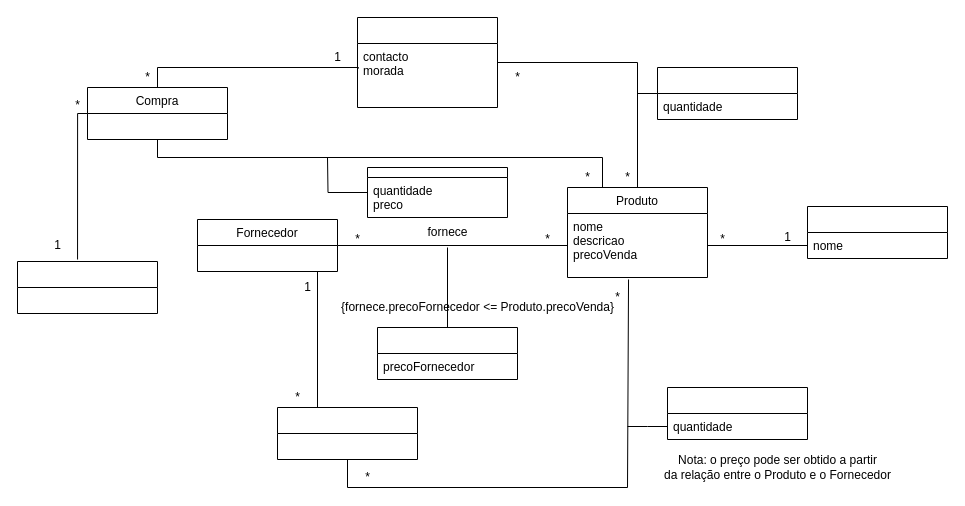
Image size: 965x506. Some labels were removed from this diagram. The shapes that lost their labels are listed below. From the top down, each one's box as (x1, y1, x2, y2) in pixels, then its label:
(356, 16, 498, 108): Loja
(806, 206, 948, 258): Categoria
(16, 260, 158, 314): Cliente
(276, 406, 418, 460): Encomenda
